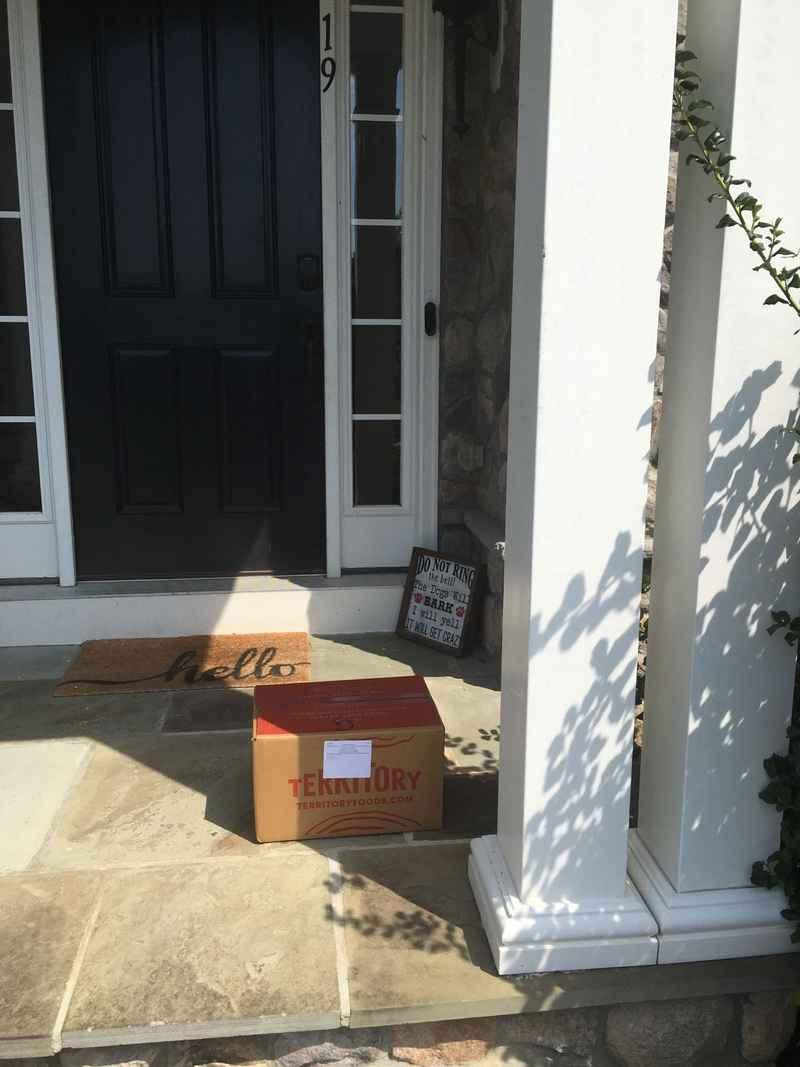package: (246, 670, 451, 847)
